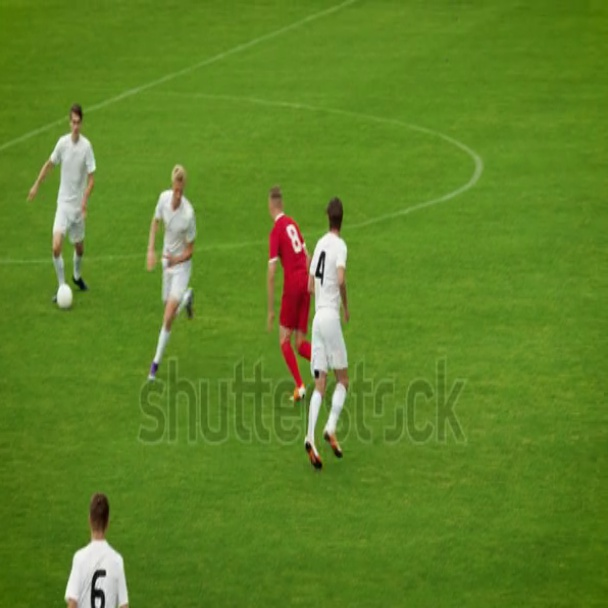ball: (57, 282, 75, 312)
